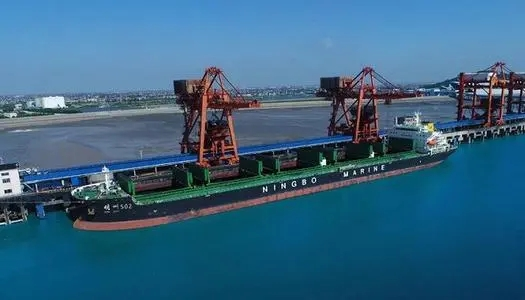Cargoship: (69, 98, 458, 231)
